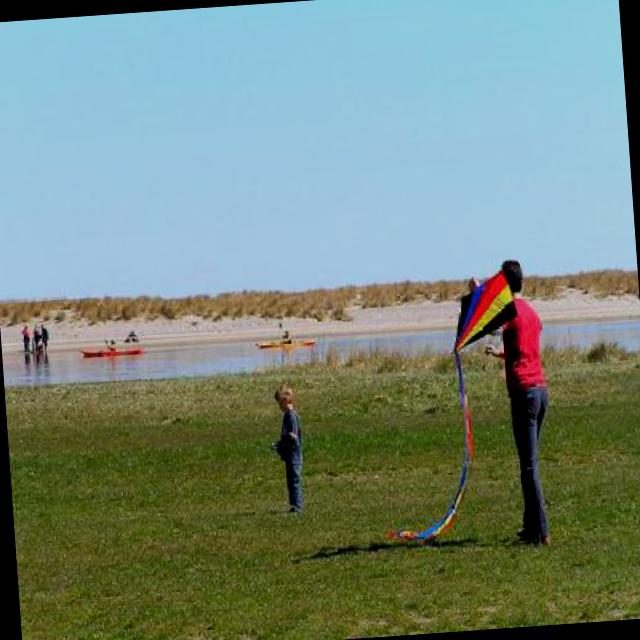Person: (464, 257, 559, 548), (268, 384, 308, 516), (39, 322, 50, 349), (20, 325, 30, 351), (32, 324, 41, 352), (107, 338, 115, 351), (30, 336, 34, 356), (281, 331, 289, 339)
